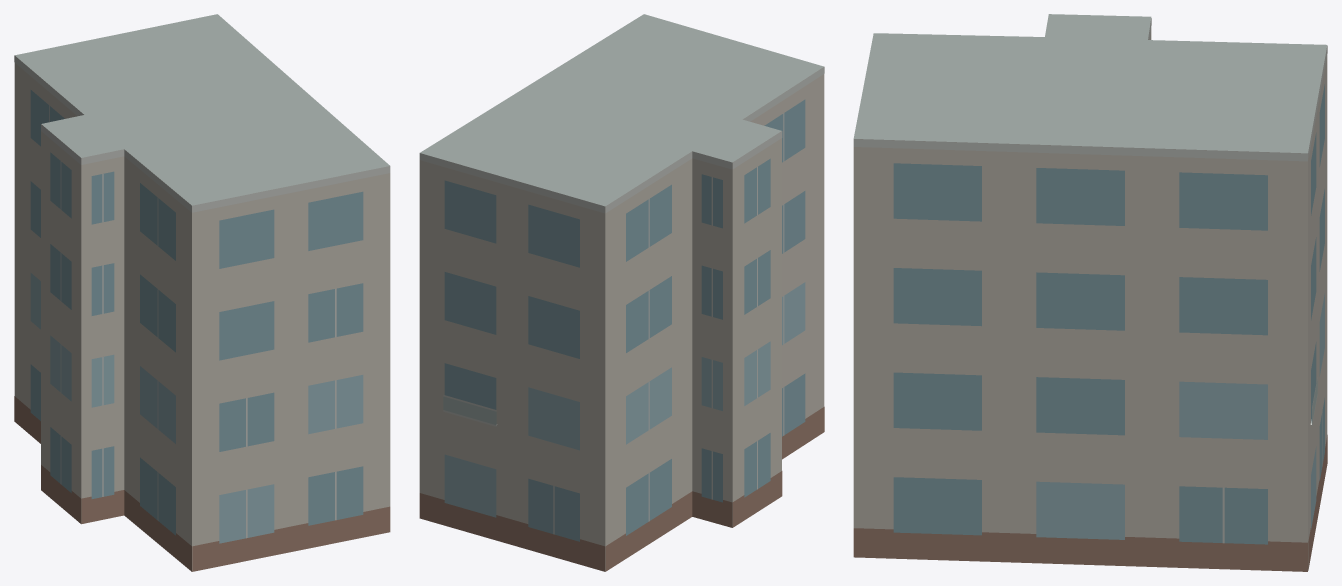
Rendered from survey-upis-32749620.glb.
The picture shows the model from 3 angles, left to right: view 1: azimuth 30°, elevation 25°; view 2: azimuth 150°, elevation 25°; view 3: azimuth 270°, elevation 25°; orthographic projection. The views are drawn at different scales.
Parts seen in each view (by area): view 1: survey-upis-32749620.tmp; view 2: survey-upis-32749620.tmp; view 3: survey-upis-32749620.tmp.
Part boxes in pixels (x1,y1,x2,y2): survey-upis-32749620.tmp: (14, 14, 390, 571); survey-upis-32749620.tmp: (419, 14, 824, 571); survey-upis-32749620.tmp: (853, 14, 1327, 571).
Size of the model in its own units: 9.01 by 12.6 by 12.94.
